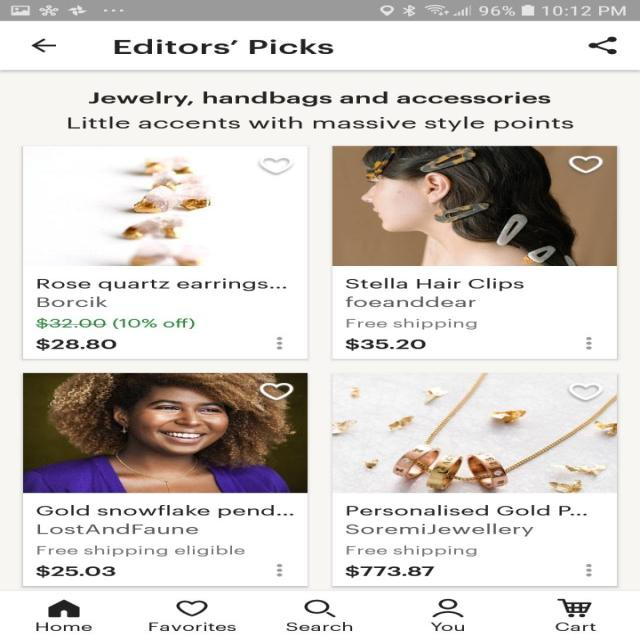Icon: (556, 598, 592, 617), (258, 156, 294, 174), (568, 155, 603, 173), (431, 598, 463, 617), (47, 599, 80, 617), (568, 383, 602, 400), (303, 599, 335, 617), (587, 36, 617, 55), (176, 599, 208, 616), (260, 383, 292, 400), (30, 38, 56, 53), (584, 564, 592, 576), (585, 336, 592, 349), (276, 336, 282, 349), (276, 564, 282, 576)
Image: (22, 372, 308, 493), (332, 145, 616, 266), (23, 146, 308, 266), (332, 373, 616, 493)
Text: (35, 504, 294, 534), (346, 504, 586, 536), (68, 116, 572, 131), (36, 278, 286, 307), (88, 91, 550, 106), (344, 277, 524, 307), (114, 38, 334, 55), (36, 546, 245, 556), (36, 317, 194, 329), (346, 318, 476, 330), (344, 546, 476, 556), (345, 565, 435, 578), (345, 337, 426, 351), (36, 564, 116, 578), (36, 337, 118, 350), (148, 621, 235, 631), (285, 621, 353, 631), (36, 622, 91, 631), (554, 622, 594, 630), (430, 622, 464, 630)
